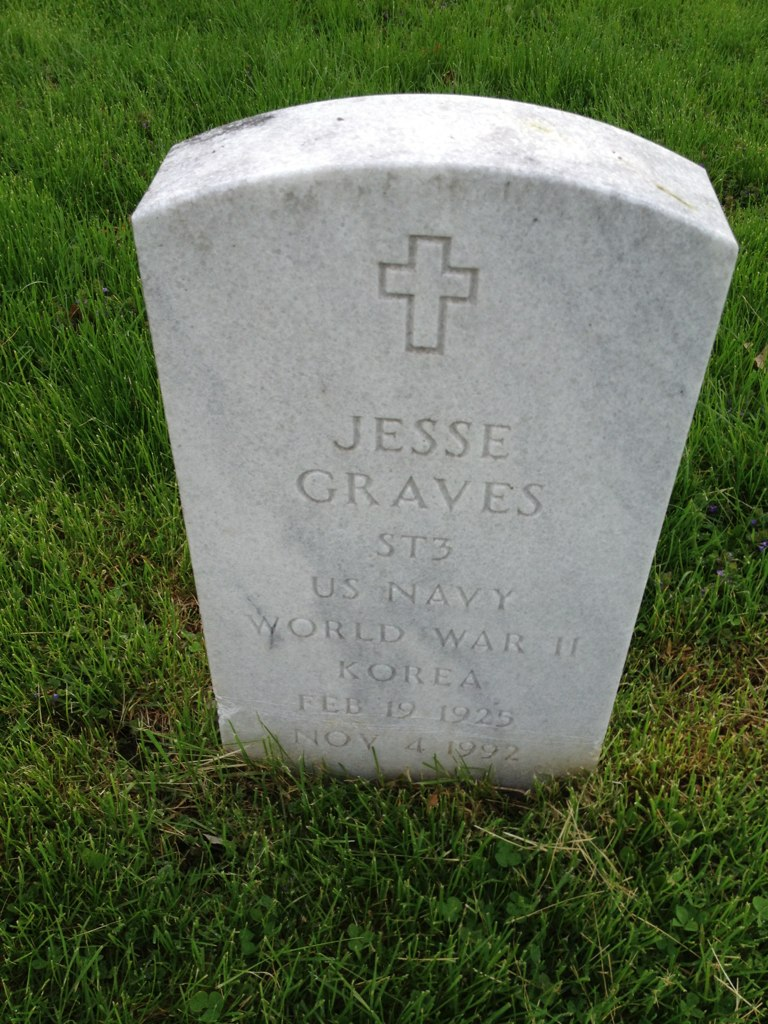military: (129, 93, 736, 778)
